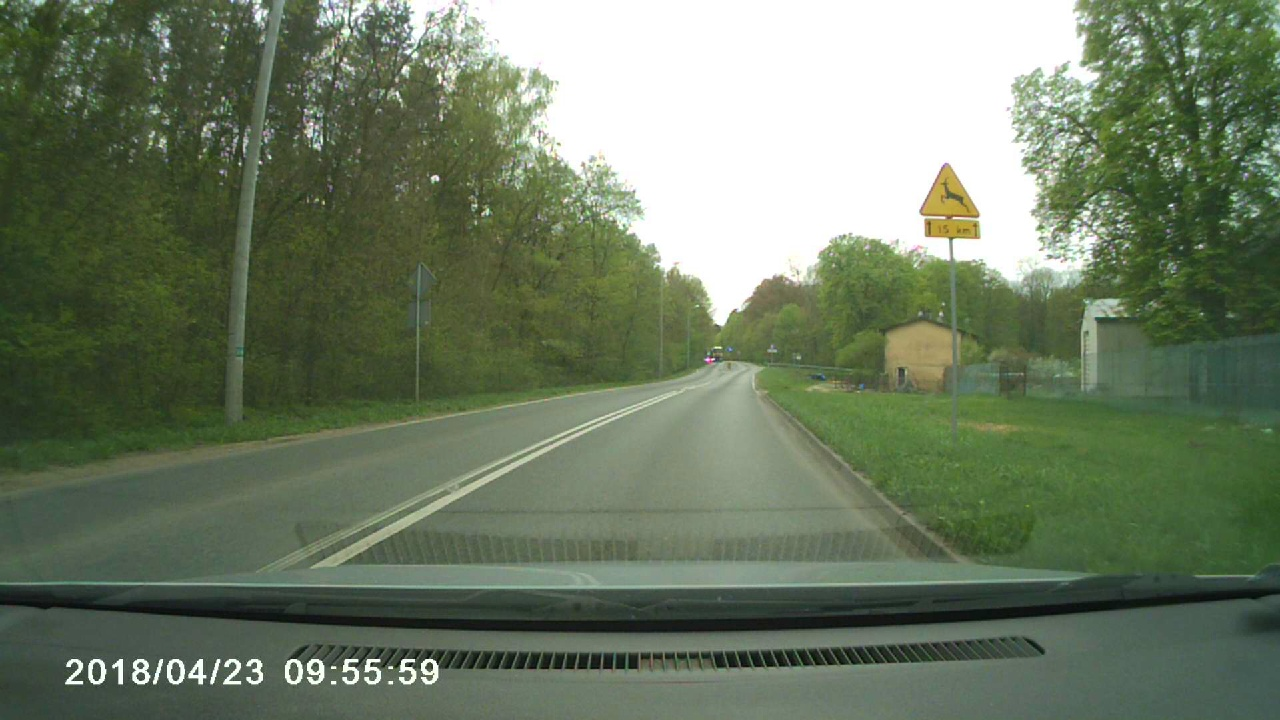A18b: (920, 163, 982, 217)
